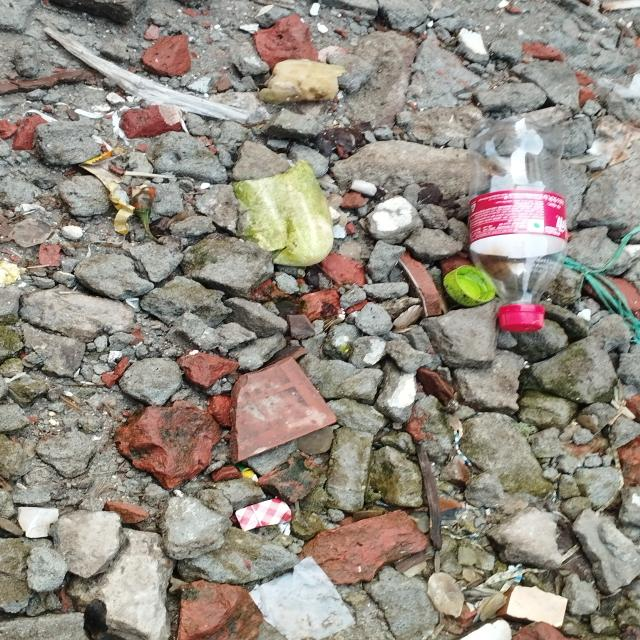plastic: (472, 122, 569, 332)
